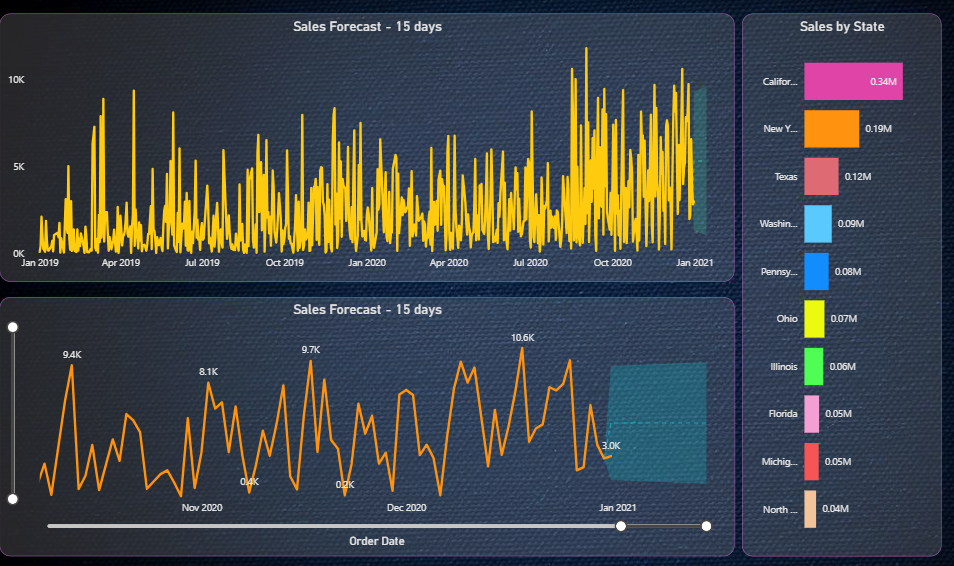

This screenshot's page, from the dashboard's own definition file:
{"tool":"powerbi","page":{"name":"Page 2","canvas":[1280,720],"ordinal":1},"visuals":[{"type":"lineChart","title":"Sales Forecast - 15 days","fields":{"Y":["Sum(Sheet1.Sales)"],"Category":["Sheet1.Order Date"]},"box":[73.7,20.8,926,338.3],"z":0},{"type":"lineChart","title":"Sales Forecast - 15 days","fields":{"Y":["Sum(Sheet1.Sales)"],"Category":["Sheet1.Order Date"]},"box":[73.7,378,926,326.9],"z":1000},{"type":"clusteredBarChart","title":"Sales by State","fields":{"Y":["Sum(Sheet1.Sales)"],"Category":["Sheet1.State"]},"box":[1009.1,20.8,251.3,684.1],"z":2000}]}

Visuals, with their boxes on the page's 1280x720 design canvas (x1, y1, x2, y2). These are canvas units, not pixel positions in the 954x566 screenshot, which may show the page scaled, cropped or inside an application window:
"Sales Forecast - 15 days" lineChart: {"x1": 74, "y1": 21, "x2": 1000, "y2": 359}
"Sales Forecast - 15 days" lineChart: {"x1": 74, "y1": 378, "x2": 1000, "y2": 705}
"Sales by State" clusteredBarChart: {"x1": 1009, "y1": 21, "x2": 1260, "y2": 705}
